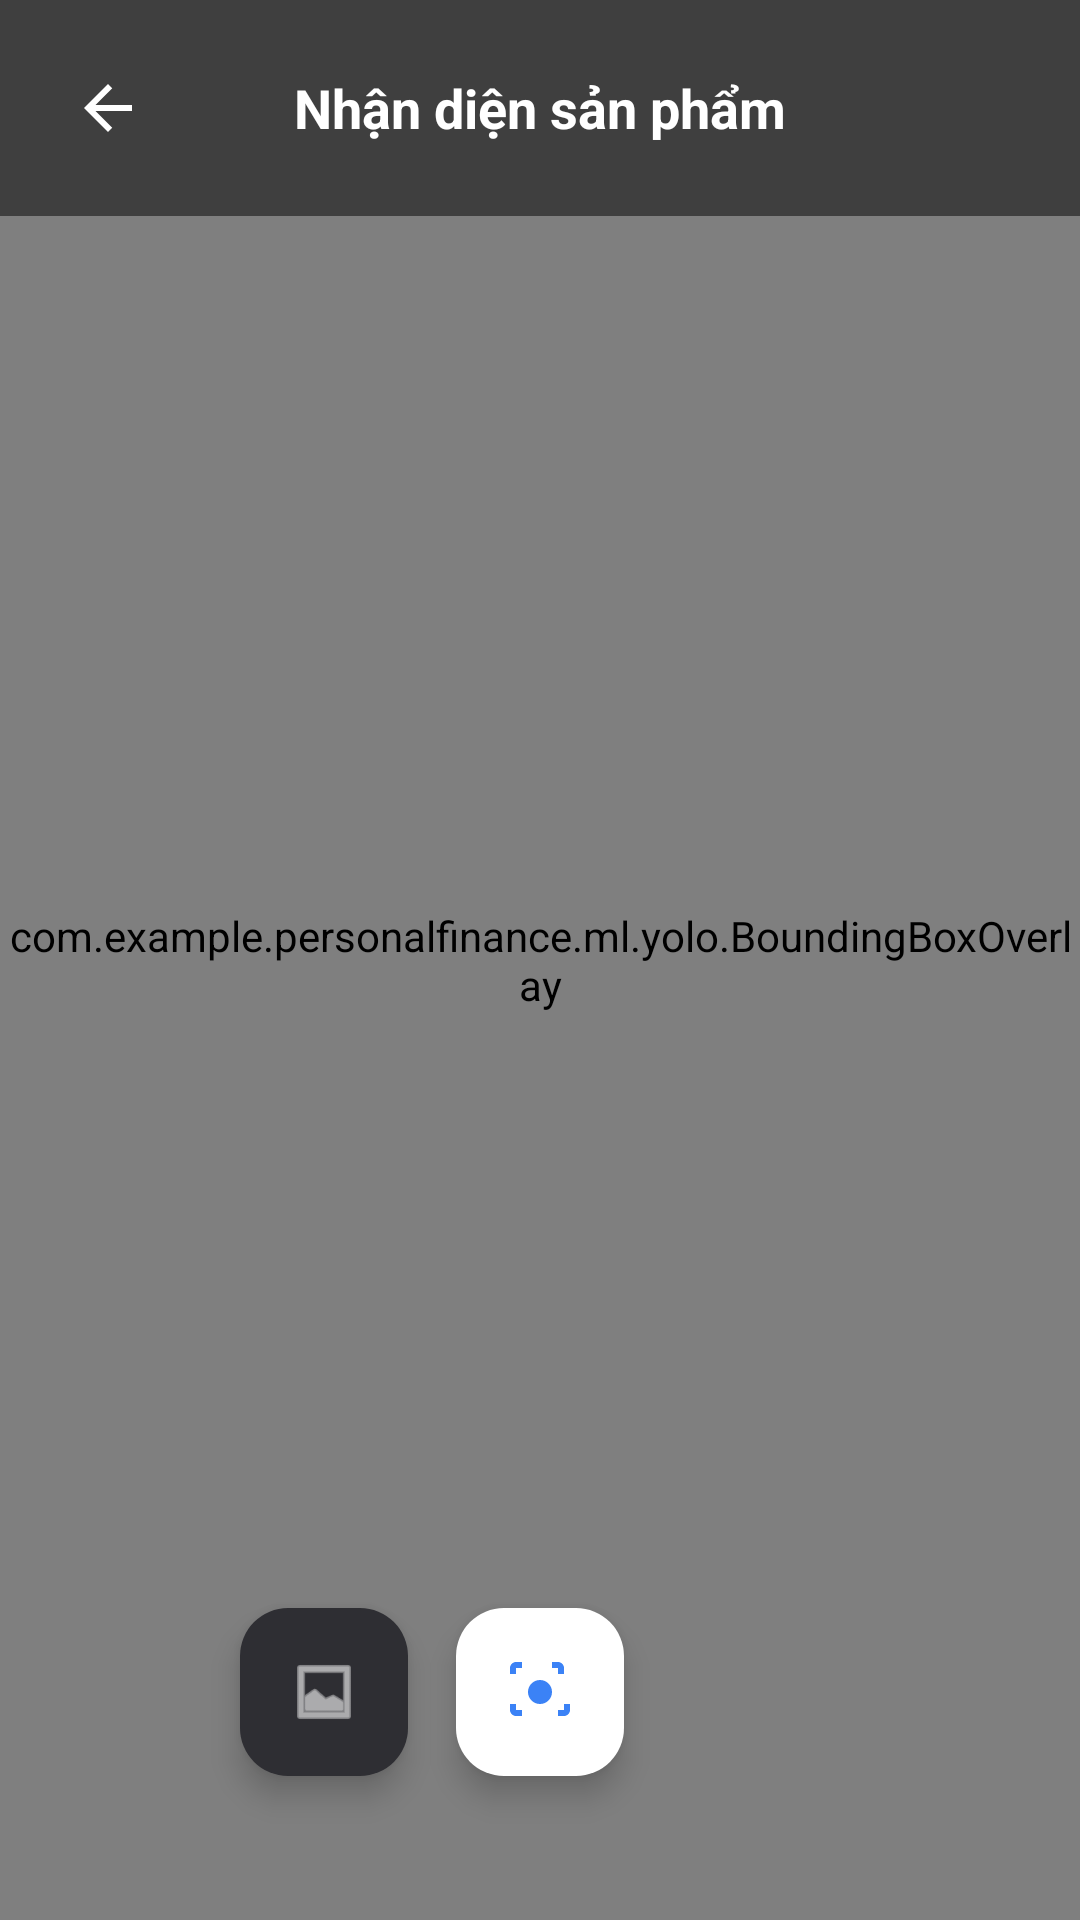

Point at icon controls on the screen. Image size 1080x1920, points as point (x, y).
Chọn từ thư viện: point (324, 1692)
Chụp ảnh: point (540, 1692)
Hủy: point (108, 108)
